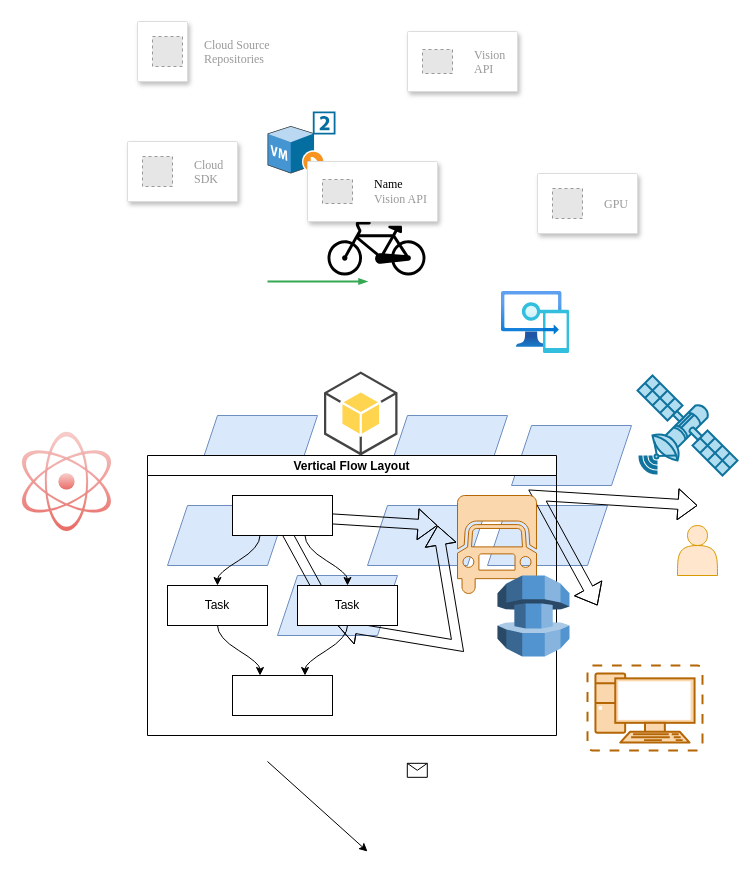
Image size: 755x877. Some labels were removed from this diagram. Grey dashed boxes stand in for pictures. The centre of each missing label's shape, as x and y in pixels:
"End" goes at point 282,695.
"Start" goes at point 282,515.
